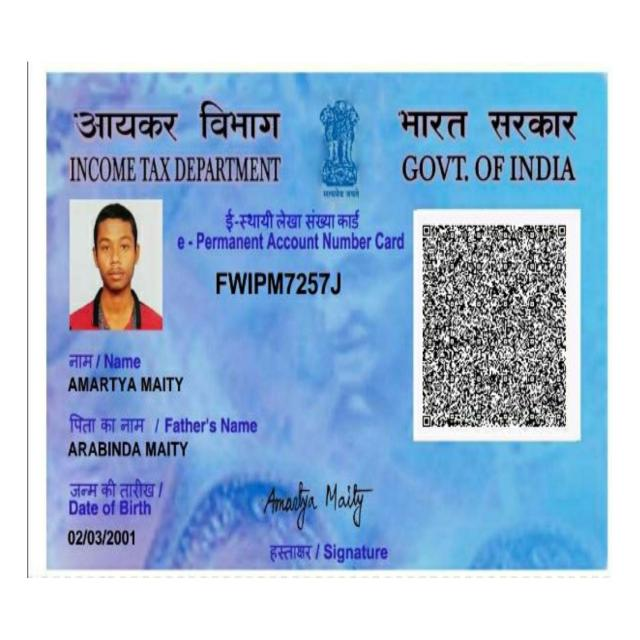pan_card: (51, 80, 601, 566)
